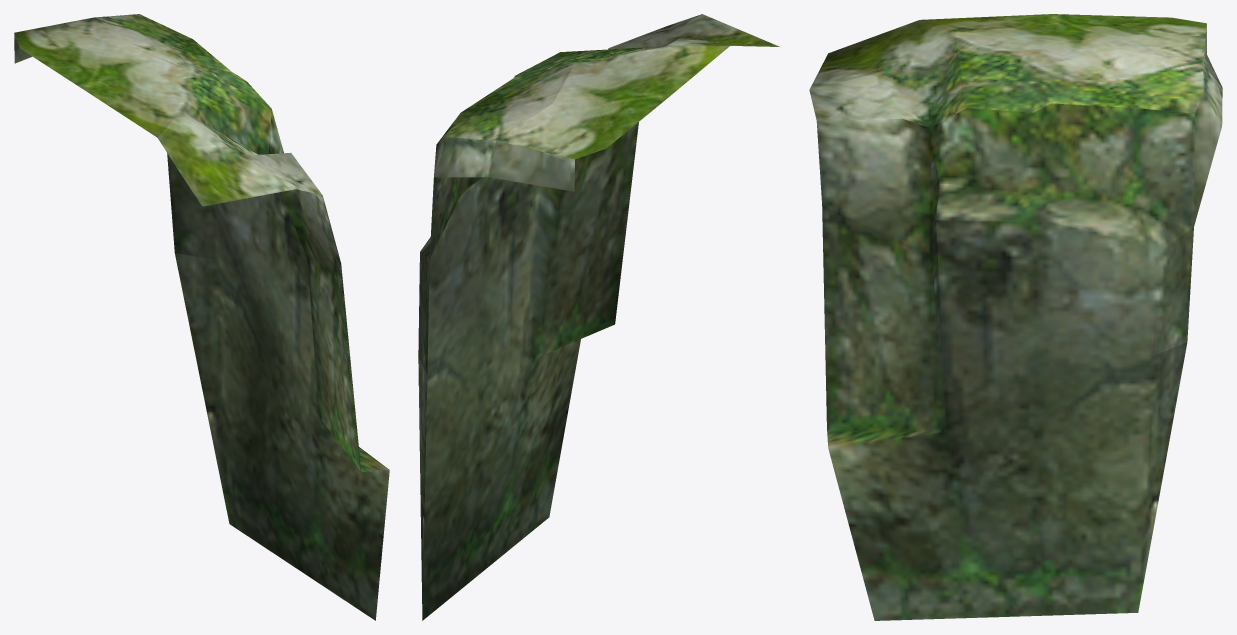
Rendered from S_Rock_Green048_1060_13.fbx.
The picture shows the model from 3 angles, left to right: view 1: azimuth 30°, elevation 25°; view 2: azimuth 150°, elevation 25°; view 3: azimuth 270°, elevation 25°; orthographic projection. The views are drawn at different scales.
Visible parts, largest first — view 1: S_Rock_Green048_1060_13; view 2: S_Rock_Green048_1060_13; view 3: S_Rock_Green048_1060_13.
Boxes of the visible parts, x1,y1,x2,y2 form: S_Rock_Green048_1060_13: (14,14,389,620); S_Rock_Green048_1060_13: (418,14,779,620); S_Rock_Green048_1060_13: (809,14,1222,620).
Size of the model in its own units: 851 by 2054 by 1508.
Materials: 1 (1 with a texture image).
